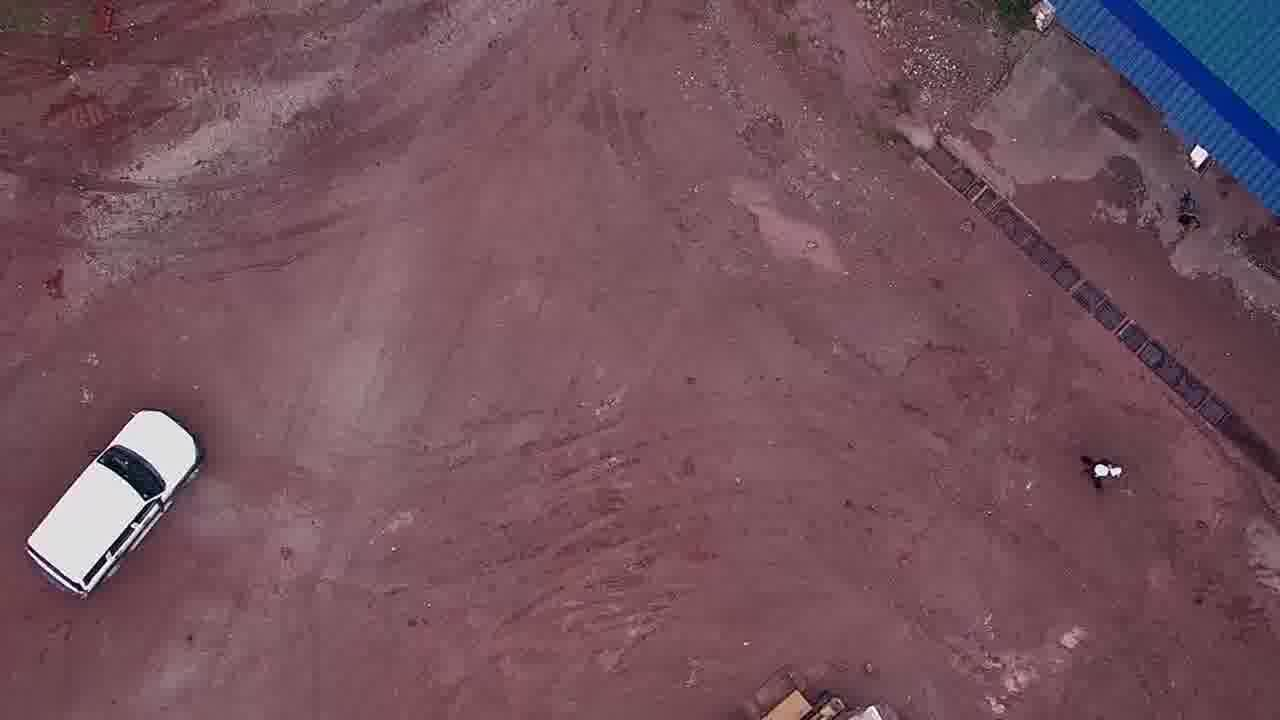light_motor_vehicle: (20, 406, 206, 598)
person: (1079, 449, 1126, 498)
